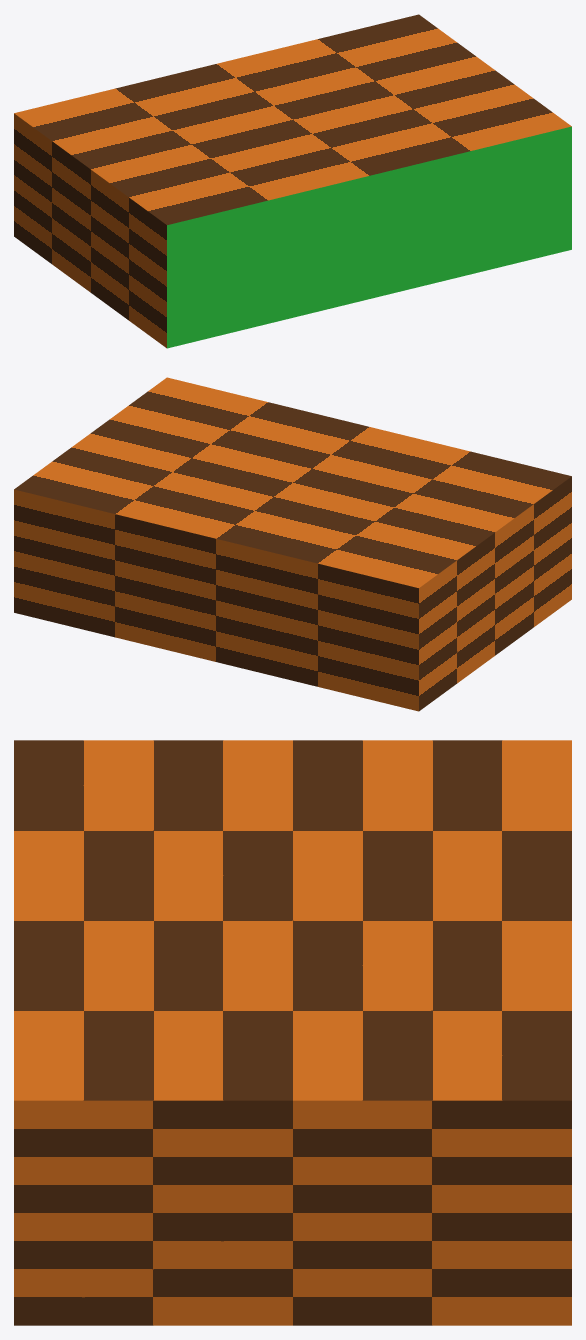
The model's file is 16_placeholder.glb.
3 views of the same model, one above another, from view 1: azimuth 30°, elevation 25°; view 2: azimuth 150°, elevation 25°; view 3: azimuth 270°, elevation 25° (orthographic). The views are drawn at different scales.
Visible parts, largest first — view 1: Matchbox (placeholder box); view 2: Matchbox (placeholder box); view 3: Matchbox (placeholder box).
Part boxes in pixels (x1,y1,x2,y2): Matchbox (placeholder box): (14,14,571,348); Matchbox (placeholder box): (14,377,571,711); Matchbox (placeholder box): (14,740,571,1325).
Bounding box in the file's own units: 0.055 × 0.016 × 0.036.
1 material, 1 textured.
